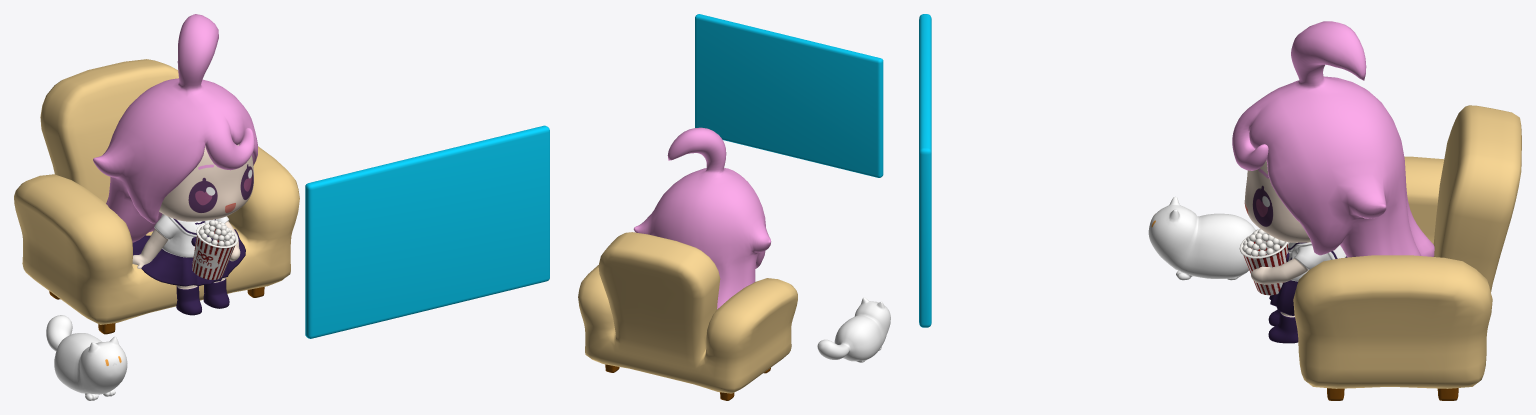
The model's file is SEMANG_JING.FBX.
The picture shows the model from 3 angles, left to right: view 1: azimuth 30°, elevation 25°; view 2: azimuth 150°, elevation 25°; view 3: azimuth 270°, elevation 25°; orthographic projection. The views are drawn at different scales.
Parts seen in each view (by area): view 1: Box025, Box021, 444444, Box004, 789, Cylinder001; view 2: Box021, Box025, 444444, 789; view 3: Box021, 444444, 789, Box025, Box004, Cylinder001.
Part boxes in pixels (<box>): Box025: <box>305,125,549,338</box>; Box021: <box>14,59,299,334</box>; 444444: <box>93,14,257,242</box>; Box004: <box>132,214,245,315</box>; 789: <box>46,315,127,400</box>; Cylinder001: <box>192,220,238,279</box>; Box021: <box>578,232,797,400</box>; Box025: <box>695,14,883,177</box>; 444444: <box>633,127,771,309</box>; 789: <box>817,297,890,362</box>; Box021: <box>1293,105,1521,400</box>; 444444: <box>1232,21,1434,257</box>; 789: <box>1148,196,1255,280</box>; Box025: <box>919,14,931,327</box>; Box004: <box>1251,242,1347,343</box>; Cylinder001: <box>1239,229,1288,295</box>.
Bounding box in the file's own units: 40.55 × 31.48 × 50.36.
Materials: 6 (6 with a texture image).
